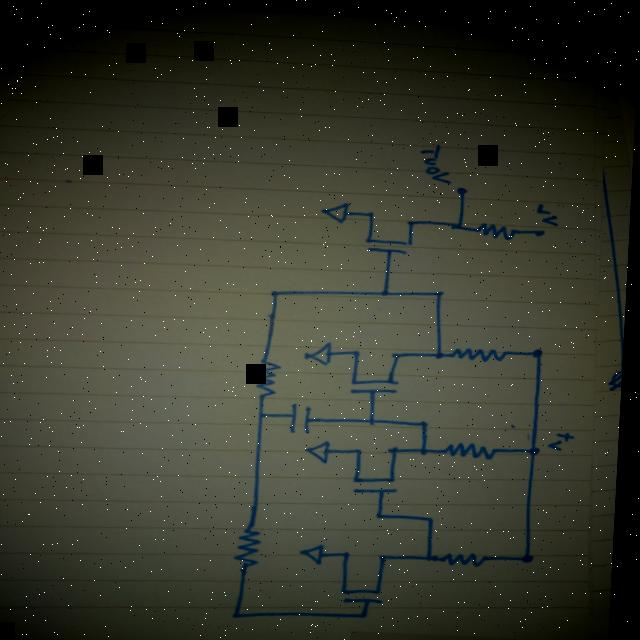capacitor: (292, 395, 320, 432)
ground: (308, 336, 338, 363), (307, 435, 338, 461), (322, 197, 352, 220), (305, 538, 332, 563)
junction: (534, 341, 550, 354), (452, 215, 468, 227), (532, 439, 546, 451), (435, 344, 449, 356), (381, 283, 394, 294), (437, 284, 449, 295), (272, 285, 285, 295), (423, 441, 435, 451), (528, 548, 540, 558), (370, 412, 382, 421), (424, 414, 435, 423), (431, 511, 443, 519), (261, 409, 272, 416), (431, 550, 440, 558), (238, 610, 249, 616), (382, 507, 390, 515), (366, 608, 376, 614)
resistor: (237, 522, 269, 567), (446, 433, 506, 456), (455, 339, 519, 359), (258, 355, 287, 396), (474, 215, 524, 237), (445, 545, 496, 563)
terminal: (458, 179, 472, 192), (535, 223, 550, 233)
text: (419, 139, 456, 181), (552, 422, 583, 447), (537, 196, 562, 221)
transistor: (351, 338, 410, 392), (345, 543, 397, 601), (355, 438, 407, 493), (366, 205, 420, 254)
